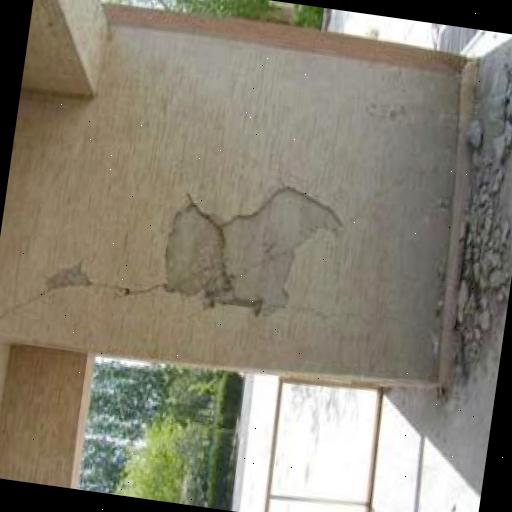spalling: (162, 186, 340, 318)
